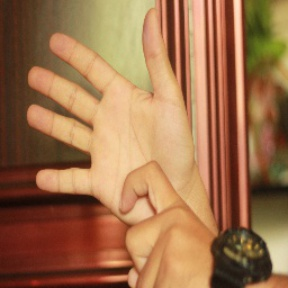R: (21, 8, 216, 282)
